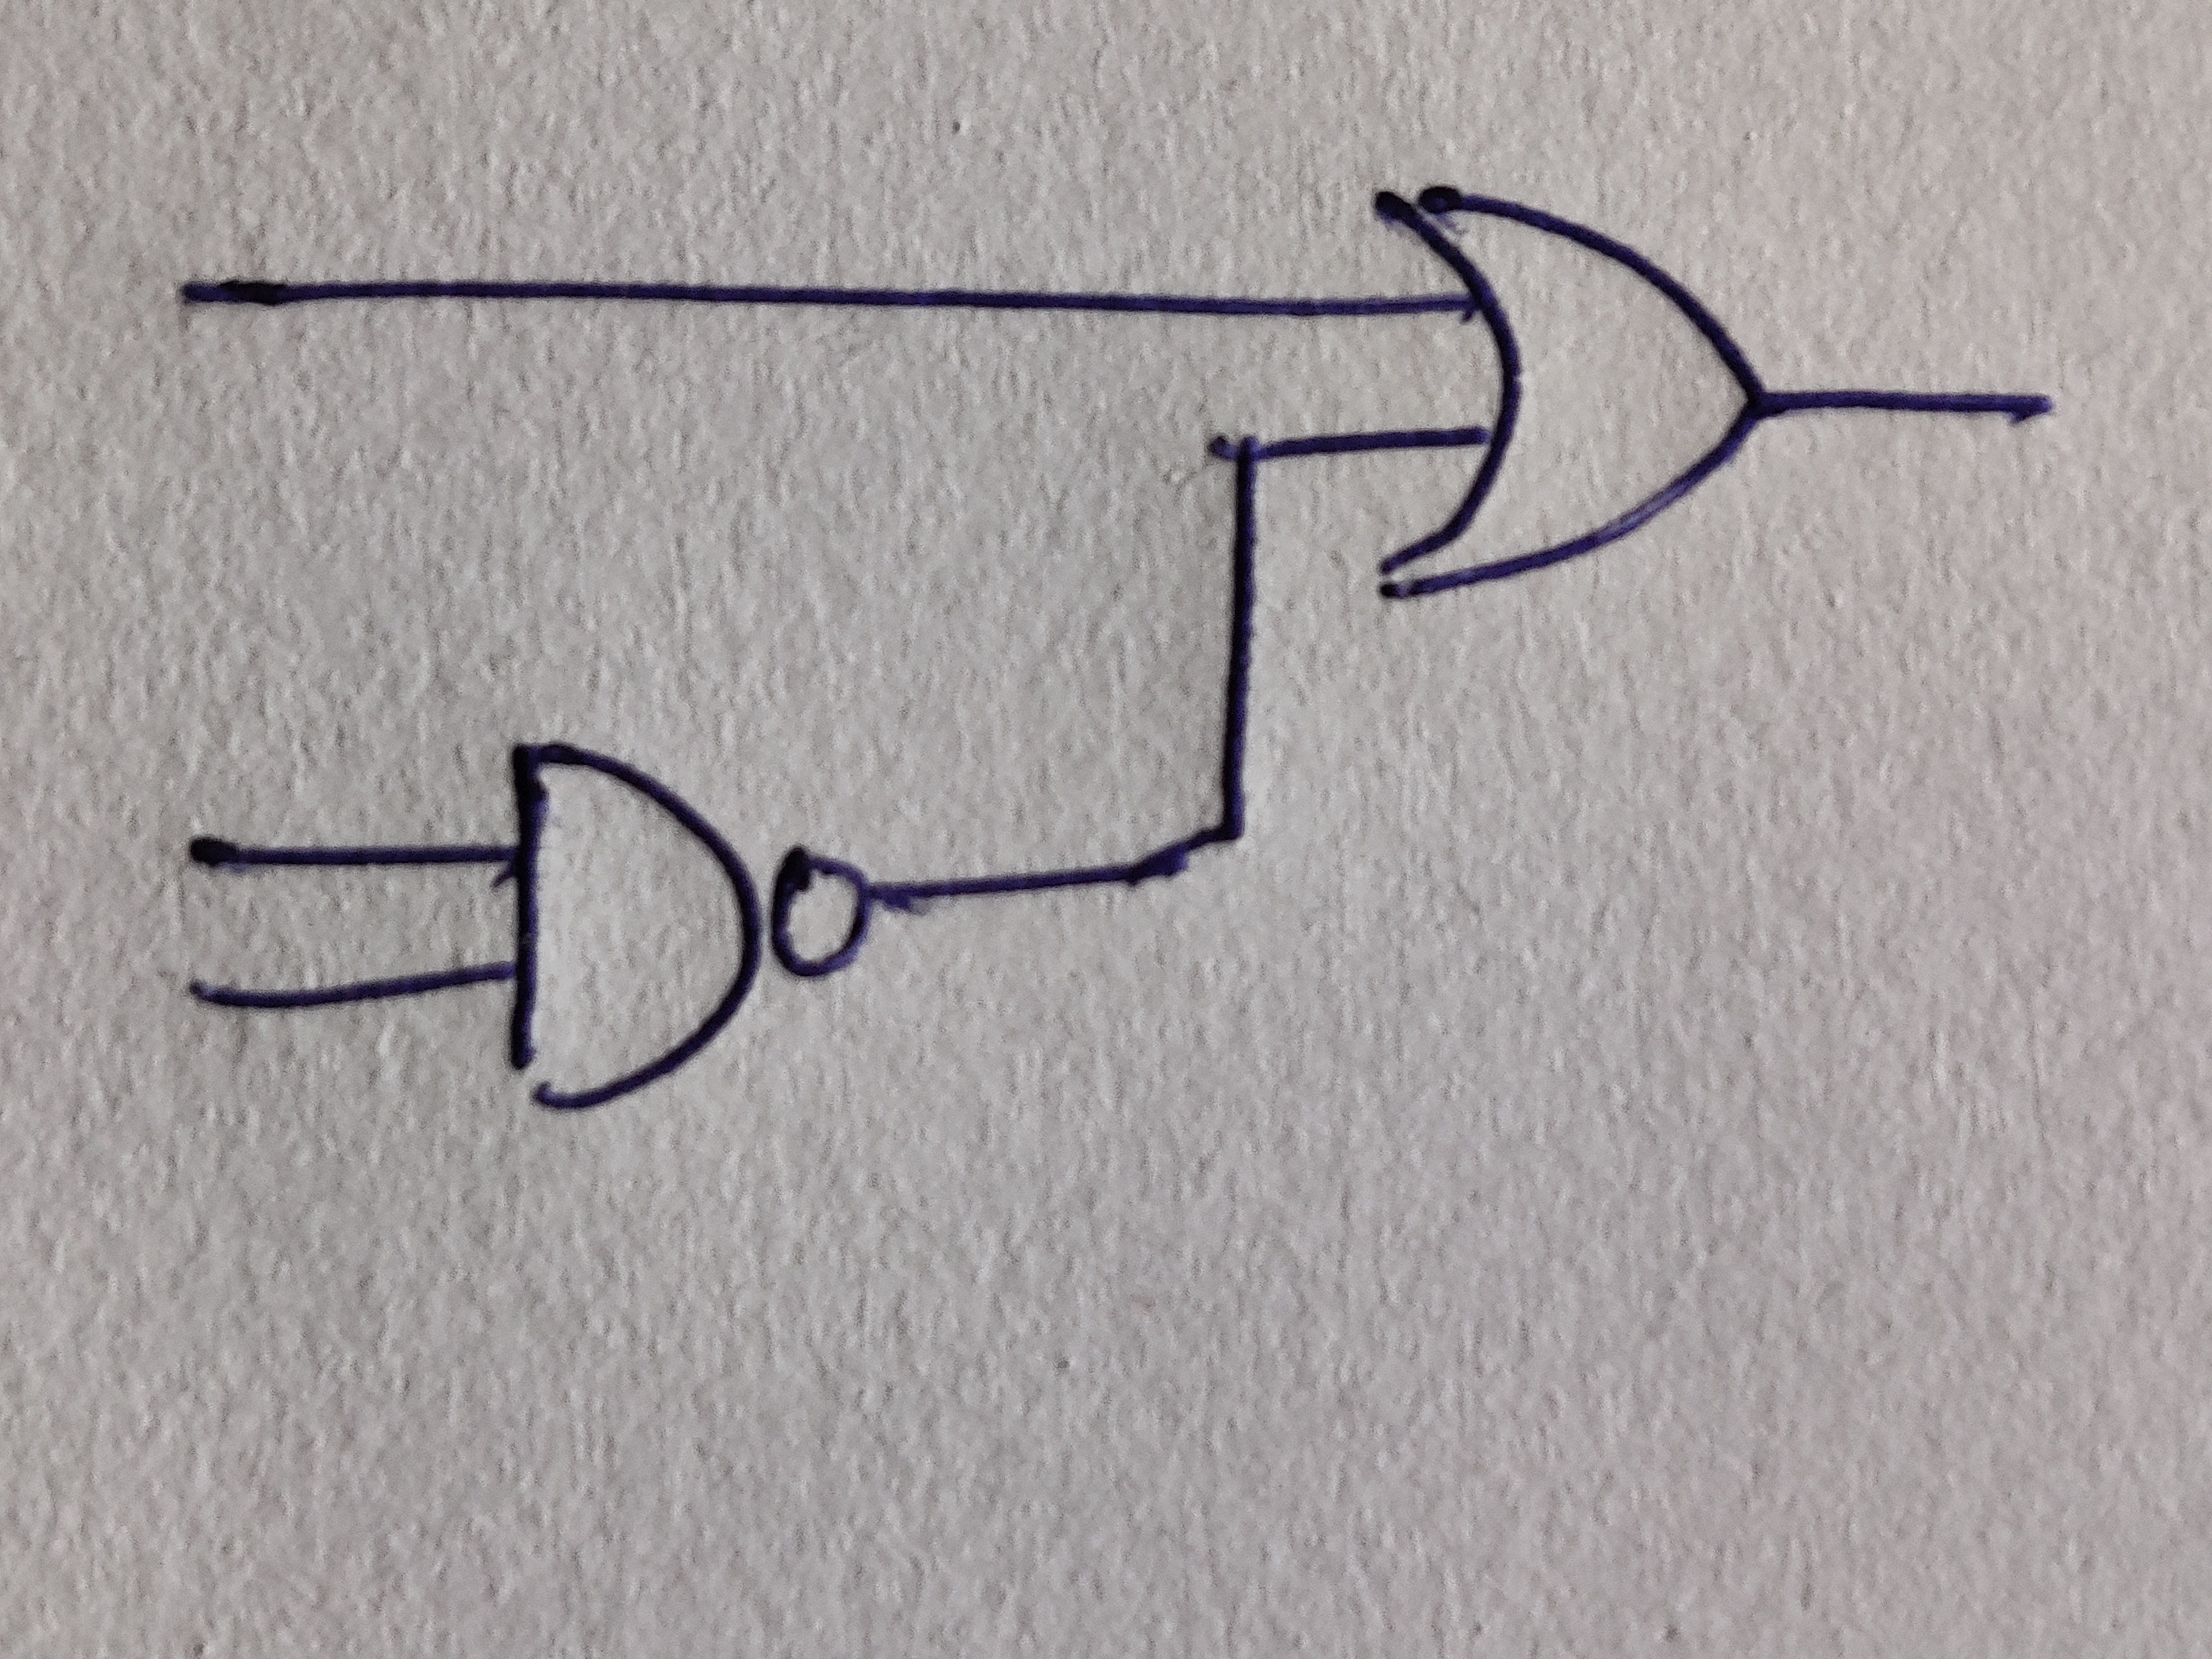and: (507, 741, 763, 1112)
not: (772, 847, 873, 978)
or: (1378, 185, 1761, 603)
